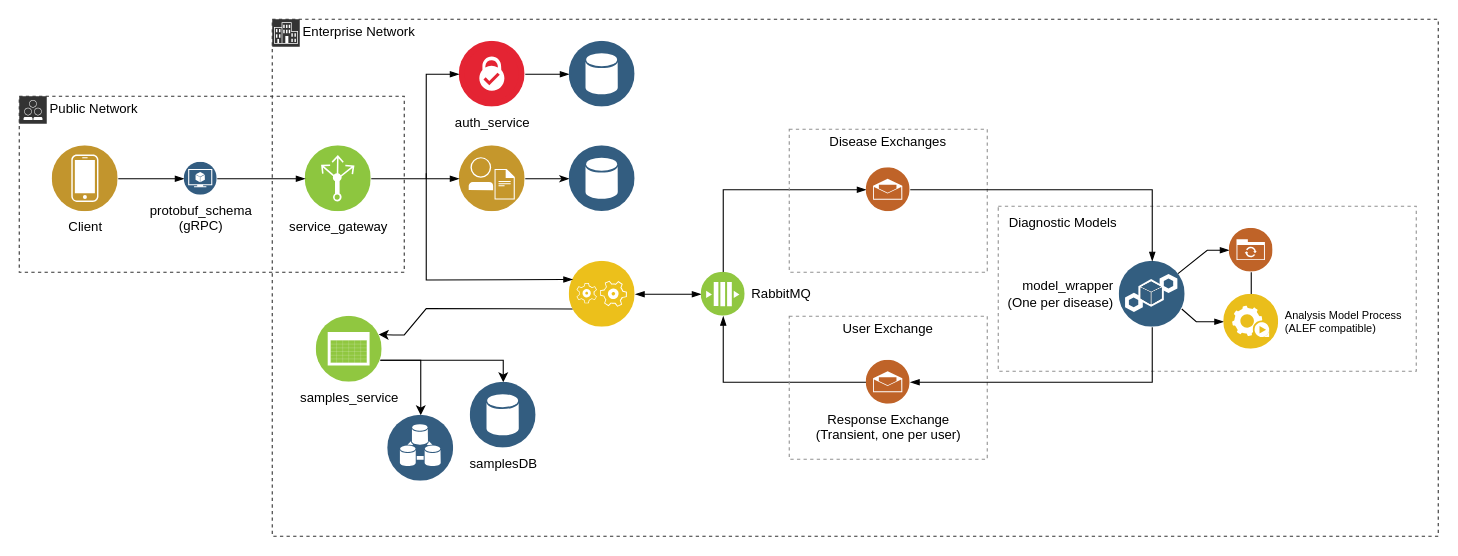
This 1458x556 diagram has some shape labels left out. The shapes that lost their labels are listed below. From the top down, each one's centre as x and y in pixels, then its label:
At point 602,74: "authDB".
At point 492,178: "diagnoses_service".
At point 602,178: "diagnosesDB".
At point 888,189: "AnalysisRequest Exchange (One per supported disease)".
At point 1251,250: "Temporary File System (tmfs)".
At point 602,294: "analysis_service".
At point 420,448: "Samples Repository (NFS)".
